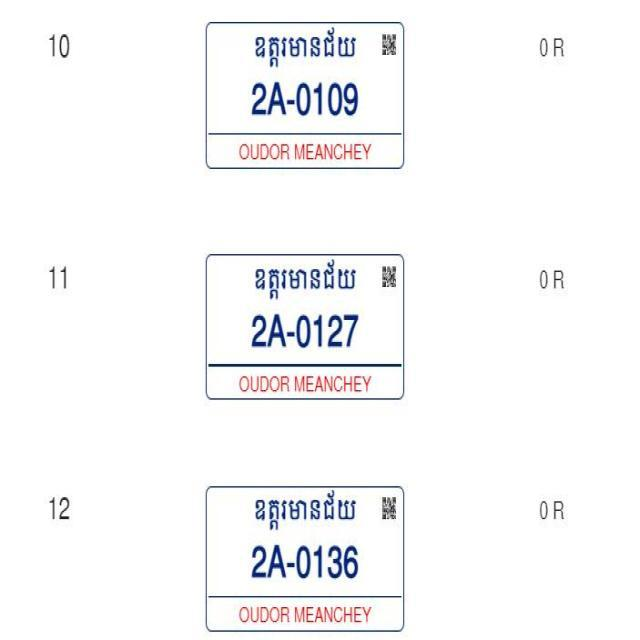Oudor_Meanchey: (247, 22, 362, 76), (254, 253, 361, 302), (254, 485, 358, 534)
